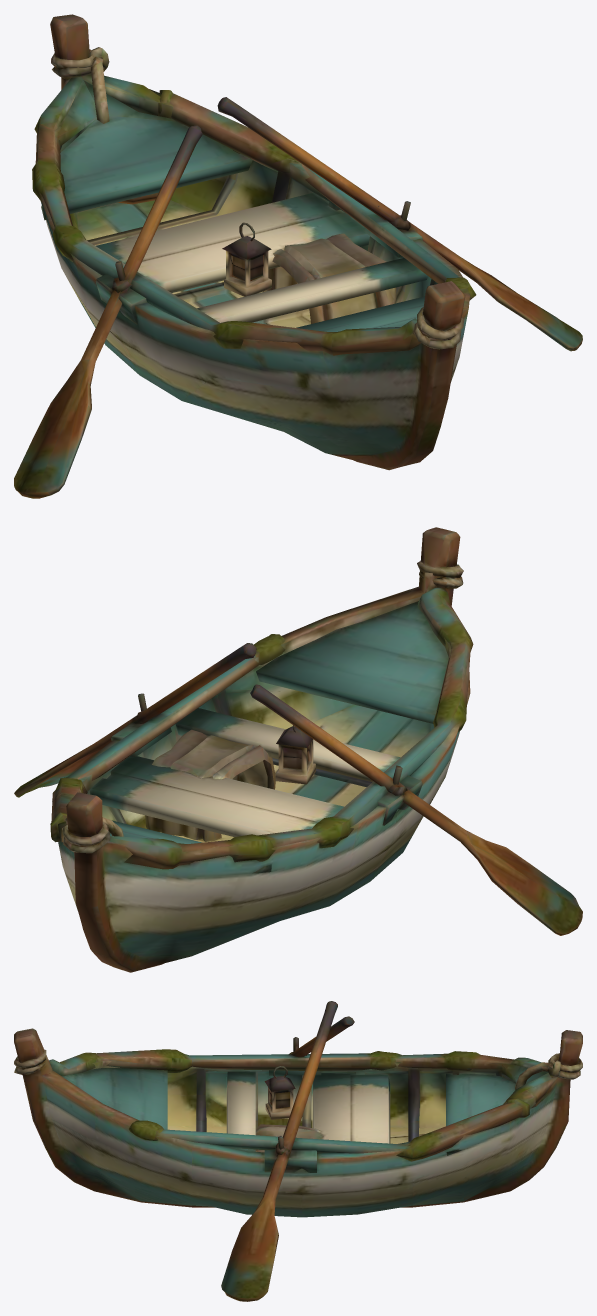
The model's file is wyn_quest_beached_skiff.glb.
3 views of the same model, one above another, from view 1: azimuth 30°, elevation 25°; view 2: azimuth 150°, elevation 25°; view 3: azimuth 270°, elevation 25° (orthographic). The views are drawn at different scales.
Parts seen in each view (by area): view 1: tripo_node_4b6db858-e96e-4a83-9b33-4747396e52ea; view 2: tripo_node_4b6db858-e96e-4a83-9b33-4747396e52ea; view 3: tripo_node_4b6db858-e96e-4a83-9b33-4747396e52ea.
Part boxes in pixels (<box>): tripo_node_4b6db858-e96e-4a83-9b33-4747396e52ea: <box>14,14,582,498</box>; tripo_node_4b6db858-e96e-4a83-9b33-4747396e52ea: <box>14,527,582,972</box>; tripo_node_4b6db858-e96e-4a83-9b33-4747396e52ea: <box>14,1001,582,1301</box>.
Bounding box in the file's own units: 3.15 × 1.5 × 3.74.
Materials: 1 (1 with a texture image).
